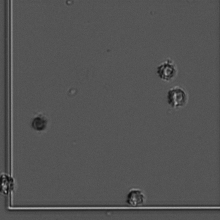Dead Cell: (155, 58, 180, 83), (122, 185, 150, 207), (163, 84, 188, 108), (26, 112, 51, 133), (1, 170, 18, 197)
